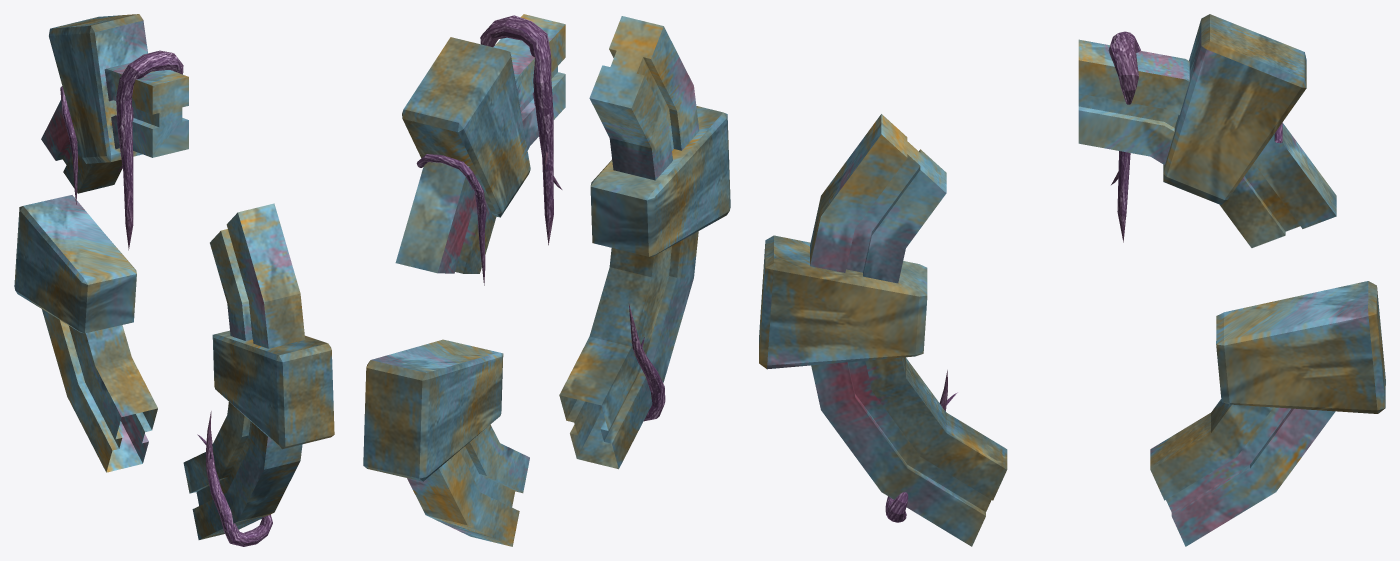
File: Str_Portal_02_Art.fbx
3 renders of one model, left to right at view 1: azimuth 30°, elevation 25°; view 2: azimuth 150°, elevation 25°; view 3: azimuth 270°, elevation 25°, orthographic. The views are drawn at different scales.
Visible parts, largest first — view 1: Str_Portal_02; view 2: Str_Portal_02; view 3: Str_Portal_02.
Boxes of the visible parts, left/top/right/bottom form: Str_Portal_02: left=14, top=14, right=334, bottom=546; Str_Portal_02: left=363, top=14, right=730, bottom=546; Str_Portal_02: left=759, top=14, right=1385, bottom=546.
Size of what is drawn, in the model's own units: 1.71 by 12.9 by 11.57.
